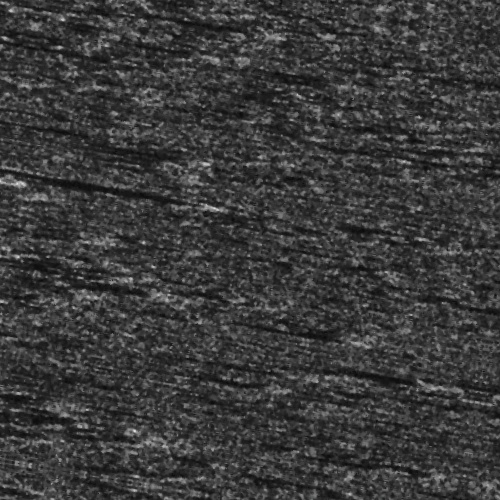object: (416, 345, 469, 356), (200, 28, 253, 37)
shadow: (303, 345, 443, 356), (71, 28, 227, 37)
